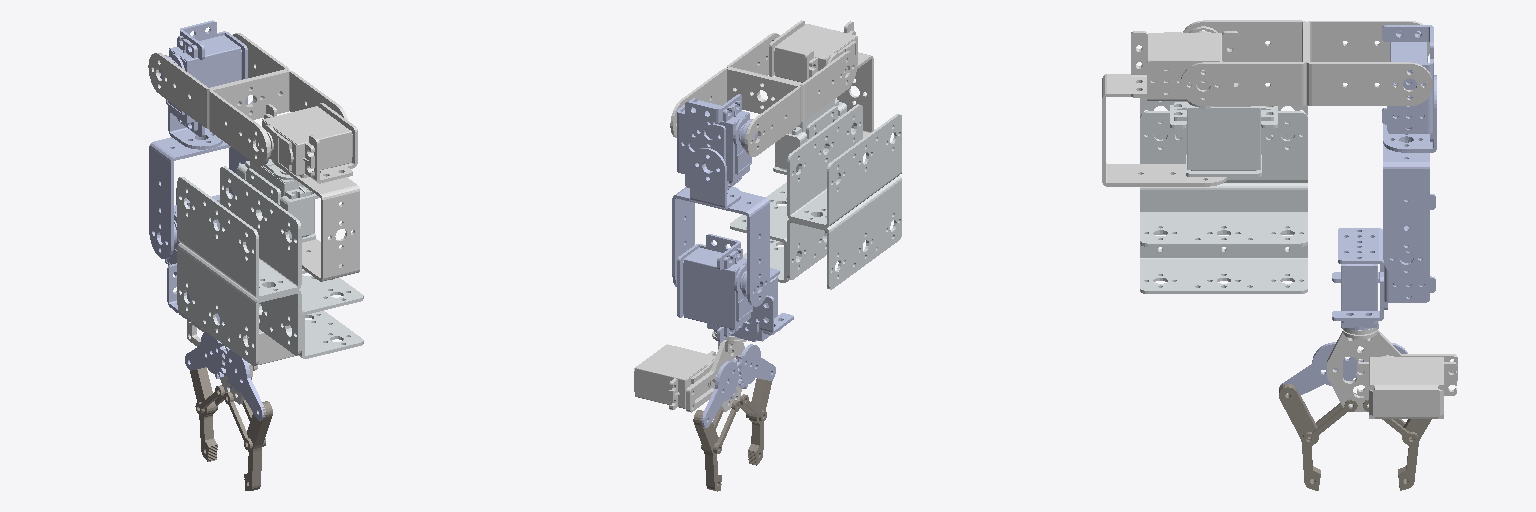
URDF robot description (robotics_arm):
<?xml version="1.0" encoding="utf-8"?>
<!-- This URDF was automatically created by SolidWorks to URDF Exporter! Originally created by [author] ([email redacted]) 
     Commit Version: 1.6.0-4-g7f85cfe  Build Version: 1.6.7995.38578
     For more information, please see http://wiki.ros.org/sw_urdf_exporter -->
<robot
  name="robotics_arm">
  <link
    name="base_link">
    <inertial>
      <origin
        xyz="0.0 0.0 0.0"
        rpy="0 0 0" />
      <mass
        value="0.19532" />
      <inertia
        ixx="0.00014045"
        ixy="2.4979E-07"
        ixz="7.5111E-16"
        iyy="0.00013483"
        iyz="-7.6006E-08"
        izz="6.0782E-05" />
    </inertial>
    <visual>
      <origin
        xyz="0 0 0"
        rpy="0 0 0" />
      <geometry>
        <mesh
          filename="package://robotics_arm_description/meshes/base_link.STL" />
      </geometry>
      <material
        name="">
        <color
          rgba="0.89804 0.91765 0.92941 1" />
      </material>
    </visual>
    <collision>
      <origin
        xyz="0 0 0"
        rpy="0 0 0" />
      <geometry>
        <mesh
          filename="package://robotics_arm_description/meshes/base_link.STL" />
      </geometry>
    </collision>
  </link>
  <link
    name="link_1">
    <inertial>
      <origin
        xyz="-0.0031208 -0.0049756 0.01652"
        rpy="0 0 0" />
      <mass
        value="0.075267" />
      <inertia
        ixx="3.3545E-05"
        ixy="-2.4977E-07"
        ixz="7.6005E-08"
        iyy="2.6443E-05"
        iyz="-7.5076E-16"
        izz="2.2815E-05" />
    </inertial>
    <visual>
      <origin
        xyz="0 0 0"
        rpy="0 0 0" />
      <geometry>
        <mesh
          filename="package://robotics_arm_description/meshes/link_1.STL" />
      </geometry>
      <material
        name="">
        <color
          rgba="0.89804 0.89804 0.89804 1" />
      </material>
    </visual>
    <collision>
      <origin
        xyz="0 0 0"
        rpy="0 0 0" />
      <geometry>
        <mesh
          filename="package://robotics_arm_description/meshes/link_1.STL" />
      </geometry>
    </collision>
  </link>
  <joint
    name="joint_1"
    type="revolute">
    <origin
      xyz="0.025 -0.01 0.105"
      rpy="-1.5708 0 3.142" />
    <parent
      link="base_link" />
    <child
      link="link_1" />
    <axis
      xyz="0 -1 0" />
    <limit
      lower="0"
      upper="3.142"
      effort="0"
      velocity="0" />
  </joint>
  <link
    name="link_2">
    <inertial>
      <origin
        xyz="-8.918E-07 -0.00018014 -0.049337"
        rpy="0 0 0" />
      <mass
        value="0.050948" />
      <inertia
        ixx="4.596E-05"
        ixy="2.8376E-20"
        ixz="-1.4107E-12"
        iyy="2.2618E-05"
        iyz="5.9094E-21"
        izz="2.8467E-05" />
    </inertial>
    <visual>
      <origin
        xyz="0 0 0"
        rpy="0 0 0" />
      <geometry>
        <mesh
          filename="package://robotics_arm_description/meshes/link_2.STL" />
      </geometry>
      <material
        name="">
        <color
          rgba="0.89804 0.89804 0.89804 1" />
      </material>
    </visual>
    <collision>
      <origin
        xyz="0 0 0"
        rpy="0 0 0" />
      <geometry>
        <mesh
          filename="package://robotics_arm_description/meshes/link_2.STL" />
      </geometry>
    </collision>
  </link>
  <joint
    name="joint_2"
    type="revolute">
    <origin
      xyz="0 -0.019745 0.001"
      rpy="3.1416 3.142 -1.571" />
    <parent
      link="link_1" />
    <child
      link="link_2" />
    <axis
      xyz="0 1 0" />
    <limit
      lower="0"
      upper="3.142"
      effort="0"
      velocity="0" />
  </joint>
  <link
    name="link_3">
    <inertial>
      <origin
        xyz="-0.074631 -0.0 -0.10187"
        rpy="0 0 0" />
      <mass
        value="0.08247" />
      <inertia
        ixx="2.3646E-05"
        ixy="-7.6043E-08"
        ixz="3.7595E-07"
        iyy="2.3364E-05"
        iyz="2.4976E-07"
        izz="3.9386E-05" />
    </inertial>
    <visual>
      <origin
        xyz="0 0 0"
        rpy="0 0 0" />
      <geometry>
        <mesh
          filename="package://robotics_arm_description/meshes/link_3.STL" />
      </geometry>
      <material
        name="">
        <color
          rgba="0.79216 0.81961 0.93333 1" />
      </material>
    </visual>
    <collision>
      <origin
        xyz="0 0 0"
        rpy="0 0 0" />
      <geometry>
        <mesh
          filename="package://robotics_arm_description/meshes/link_3.STL" />
      </geometry>
    </collision>
  </link>
  <joint
    name="joint_3"
    type="revolute">
    <!-- <origin
      xyz="0 -0.033579 0"
      rpy="0 -0.43322 3.1416" /> -->
    <origin
      xyz="0.0 -0.02 -0.11"
      rpy="0 3.142 0" />
    <parent
      link="link_2" />
    <child
      link="link_3" />
    <axis
      xyz="0 1 0" />
    <limit
      lower="0"
      upper="3.142"
      effort="0"
      velocity="0" />
  </joint>
  <link
    name="link_4">
    <inertial>
      <origin
        xyz="-0.001684 0.021693 0.033431"
        rpy="0 0 0" />
      <mass
        value="0.099586" />
      <inertia
        ixx="1.9146E-05"
        ixy="-1.5201E-07"
        ixz="-2.4979E-07"
        iyy="1.928E-05"
        iyz="-2.4979E-07"
        izz="3.0134E-05" />
    </inertial>
    <visual>
      <origin
        xyz="0 0 0"
        rpy="0 0 0" />
      <geometry>
        <mesh
          filename="package://robotics_arm_description/meshes/link_4.STL" />
      </geometry>
      <material
        name="">
        <color
          rgba="0.79216 0.81961 0.93333 1" />
      </material>
    </visual>
    <collision>
      <origin
        xyz="0 0 0"
        rpy="0 0 0" />
      <geometry>
        <mesh
          filename="package://robotics_arm_description/meshes/link_4.STL" />
      </geometry>
    </collision>
  </link>
  <joint
    name="joint_4"
    type="revolute">
    <origin
      xyz="-0.1 -0.0005 -0.0"
      rpy="3.1416 0 0" />
    <parent
      link="link_3" />
    <child
      link="link_4" />
    <axis
      xyz="0.0 -1 0.0" />
    <limit
      lower="0"
      upper="3.142"
      effort="0"
      velocity="0" />
  </joint>


  <!--Gripper-->
  <link
    name="gripper_base">
    <inertial>
      <origin
        xyz="-0.000363540838981241 -0.00348535609044029 -8.80955530746519E-10"
        rpy="0 0 0" />
      <mass
        value="0.00593633535356358" />
      <inertia
        ixx="1.59159341867429E-07"
        ixy="1.90789506838977E-09"
        ixz="-8.84539102937578E-17"
        iyy="2.93200101138606E-07"
        iyz="-3.77523037886217E-16"
        izz="1.49447486803871E-07" />
    </inertial>
    <visual>
      <origin
        xyz="0 0 0"
        rpy="0 0 0" />
      <geometry>
        <mesh
          filename="package://robotics_arm_description/meshes/gripper_base.STL" />
      </geometry>
      <material
        name="">
        <color
          rgba="0.898039215686275 0.898039215686275 0.898039215686275 1" />
      </material>
    </visual>
    <collision>
      <origin
        xyz="0 0 0"
        rpy="0 0 0" />
      <geometry>
        <mesh
          filename="package://robotics_arm_description/meshes/gripper_base.STL" />
      </geometry>
    </collision>
  </link>
  <joint
    name="gripper_base_joint"
    type="revolute">
    <origin
      xyz="-0.048 -0.03 0.026"
      rpy="3.1416 3.142 1.5708" />
    <parent
      link="link_4" />
    <child
      link="gripper_base" />
    <axis
      xyz="0 1 0" />
    <limit
      lower="0"
      upper="3.142"
      effort="0"
      velocity="0" />
  </joint>
  
  <link
    name="right_knuckle">
    <inertial>
      <origin
        xyz="0.00668261986107144 0.000411552195934639 0.00125000041516807"
        rpy="0 0 0" />
      <mass
        value="0.00186749158806896" />
      <inertia
        ixx="6.43881538535286E-08"
        ixy="8.60444943248738E-09"
        ixz="1.44343016890503E-22"
        iyy="2.9102971724496E-07"
        iyz="-3.5237894094759E-22"
        izz="3.53472567360917E-07" />
    </inertial>
    <visual>
      <origin
        xyz="0 0 0"
        rpy="0 0 0" />
      <geometry>
        <mesh
          filename="package://robotics_arm_description/meshes/right_knuckle.STL" />
      </geometry>
      <material
        name="">
        <color
          rgba="0.792156862745098 0.819607843137255 0.933333333333333 1" />
      </material>
    </visual>
    <collision>
      <origin
        xyz="0 0 0"
        rpy="0 0 0" />
      <geometry>
        <mesh
          filename="package://robotics_arm_description/meshes/right_knuckle.STL" />
      </geometry>
    </collision>
  </link>
  <joint
    name="gripper_joint"
    type="revolute">
    <origin
      xyz="-0.0045 -0.029286 -0.014782"
      rpy="1.5708 0.99851 -1.5708" />
    <parent
      link="gripper_base" />
    <child
      link="right_knuckle" />
    <axis
      xyz="0 0 1" />
    <limit
      lower="0"
      upper="0.8"
      effort="0"
      velocity="0" />
  </joint>
  <link
    name="right_finger">
    <inertial>
      <origin
        xyz="-0.00979937596486929 0.00270099795344181 -3.55234022753059E-10"
        rpy="0 0 0" />
      <mass
        value="0.0228241558821815" />
      <inertia
        ixx="5.52737412324421E-07"
        ixy="1.37764922823382E-06"
        ixz="2.4709539258184E-20"
        iyy="6.56789691049883E-06"
        iyz="-6.88214269644119E-21"
        izz="7.08639808899998E-06" />
    </inertial>
    <visual>
      <origin
        xyz="0 0 0"
        rpy="0 0 0" />
      <geometry>
        <mesh
          filename="package://robotics_arm_description/meshes/left_finger.STL" />
      </geometry>
      <material
        name="">
        <color
          rgba="0.647058823529412 0.619607843137255 0.588235294117647 1" />
      </material>
    </visual>
    <collision>
      <origin
        xyz="0 0 0"
        rpy="0 0 0" />
      <geometry>
        <mesh
          filename="package://robotics_arm_description/meshes/left_finger.STL" />
      </geometry>
    </collision>
  </link>
  <joint
    name="right_outer_joint"
    type="revolute">
    <origin
      xyz="0.03 0.0 -0.005"
      rpy="0 0 -1.647" />
    <parent
      link="right_knuckle" />
    <child
      link="right_finger" />
    <axis
      xyz="0 0 1" />
    <limit
      lower="0"
      upper="0"
      effort="0"
      velocity="0" />
    <mimic
      joint="gripper_joint"
      multiplier="-1"
      offset="0" />
  </joint>
  <link
    name="right_inner_link">
    <inertial>
      <origin
        xyz="5.1147974744481E-13 -2.2266355426126E-12 0.00550000000011003"
        rpy="0 0 0" />
      <mass
        value="0.00510100743119223" />
      <inertia
        ixx="1.34527151286055E-08"
        ixy="-3.34811858124617E-18"
        ixz="5.43871252753616E-23"
        iyy="6.76243183348528E-07"
        iyz="6.28657265540301E-23"
        izz="6.84382349069641E-07" />
    </inertial>
    <visual>
      <origin
        xyz="0 0 0"
        rpy="0 0 0" />
      <geometry>
        <mesh
          filename="package://robotics_arm_description/meshes/left_inner_link.STL" />
      </geometry>
      <material
        name="">
        <color
          rgba="0.647058823529412 0.619607843137255 0.588235294117647 1" />
      </material>
    </visual>
    <collision>
      <origin
        xyz="0 0 0"
        rpy="0 0 0" />
      <geometry>
        <mesh
          filename="package://robotics_arm_description/meshes/left_inner_link.STL" />
      </geometry>
    </collision>
  </link>
  <joint
    name="right_inner_joint"
    type="revolute">
    <origin
      xyz="-0.0025 -0.05 -0.005"
      rpy="1.5708 -0.85555 1.5708" />
    <parent
      link="gripper_base" />
    <child
      link="right_inner_link" />
    <axis
      xyz="0 0 -1" />
    <limit
      lower="0"
      upper="0"
      effort="0"
      velocity="0" />
    <mimic
      joint="gripper_joint"
      multiplier="1"
      offset="0" />
  </joint>
  <link
    name="left_inner_link">
    <inertial>
      <origin
        xyz="-3.23715826366922E-09 2.54691268075646E-10 -0.00300000007424722"
        rpy="0 0 0" />
      <mass
        value="0.00510100743119225" />
      <inertia
        ixx="1.34527151286056E-08"
        ixy="-6.39099484239893E-15"
        ixz="2.94455618553564E-21"
        iyy="6.76243183348529E-07"
        iyz="-1.32348898008484E-23"
        izz="6.84382349069643E-07" />
    </inertial>
    <visual>
      <origin
        xyz="0 0 0"
        rpy="0 0 0" />
      <geometry>
        <mesh
          filename="package://robotics_arm_description/meshes/left_inner_link.STL" />
      </geometry>
      <material
        name="">
        <color
          rgba="0.647058823529412 0.619607843137255 0.588235294117647 1" />
      </material>
    </visual>
    <collision>
      <origin
        xyz="0 0 0"
        rpy="0 0 0" />
      <geometry>
        <mesh
          filename="package://robotics_arm_description/meshes/left_inner_link.STL" />
      </geometry>
    </collision>
  </link>
  <joint
    name="left_inner_joint"
    type="revolute">
    <origin
      xyz="-0.0025 -0.05 0.005"
      rpy="-1.5708 0.84609 1.5708" />
    <parent
      link="gripper_base" />
    <child
      link="left_inner_link" />
    <axis
      xyz="0 0 1" />
    <limit
      lower="0"
      upper="0"
      effort="0"
      velocity="0" />
    <mimic
      joint="gripper_joint"
      multiplier="-1"
      offset="0" />
  </joint>
  <link
    name="left_knuckle">
    <inertial>
      <origin
        xyz="0.00668260569846107 0.000411535901404525 0.00125000002359923"
        rpy="0 0 0" />
      <mass
        value="0.00186749158806896" />
      <inertia
        ixx="6.43881535863432E-08"
        ixy="8.60444591364846E-09"
        ixz="1.04927860702352E-21"
        iyy="2.91029717512146E-07"
        iyz="1.91905902112302E-22"
        izz="3.53472567360918E-07" />
    </inertial>
    <visual>
      <origin
        xyz="0 0 0"
        rpy="0 0 0" />
      <geometry>
        <mesh
          filename="package://robotics_arm_description/meshes/left_knuckle.STL" />
      </geometry>
      <material
        name="">
        <color
          rgba="0.792156862745098 0.819607843137255 0.933333333333333 1" />
      </material>
    </visual>
    <collision>
      <origin
        xyz="0 0 0"
        rpy="0 0 0" />
      <geometry>
        <mesh
          filename="package://robotics_arm_description/meshes/left_knuckle.STL" />
      </geometry>
    </collision>
  </link>
  <joint
    name="left_knuckle_joint"
    type="revolute">
    <origin
      xyz="-0.007 -0.029303 0.013318"
      rpy="-1.5708 -1.0122 -1.5708" />
    <parent
      link="gripper_base" />
    <child
      link="left_knuckle" />
    <axis
      xyz="0 0 1" />
    <limit
      lower="0"
      upper="0"
      effort="0"
      velocity="0" />
    <mimic
      joint="gripper_joint"
      multiplier="1"
      offset="0" />
  </joint>
  <link
    name="left_finger">
    <inertial>
      <origin
        xyz="-0.00979937915283868 0.00270100620085434 0.00300000005464007"
        rpy="0 0 0" />
      <mass
        value="0.0228241558821816" />
      <inertia
        ixx="5.52737369249781E-07"
        ixy="1.37764913419651E-06"
        ixz="-3.03773808153974E-20"
        iyy="6.56789695357349E-06"
        iyz="6.63610816299495E-21"
        izz="7.08639808899999E-06" />
    </inertial>
    <visual>
      <origin
        xyz="0 0 0"
        rpy="0 0 0" />
      <geometry>
        <mesh
          filename="package://robotics_arm_description/meshes/left_finger.STL" />
      </geometry>
      <material
        name="">
        <color
          rgba="0.647058823529412 0.619607843137255 0.588235294117647 1" />
      </material>
    </visual>
    <collision>
      <origin
        xyz="0 0 0"
        rpy="0 0 0" />
      <geometry>
        <mesh
          filename="package://robotics_arm_description/meshes/left_finger.STL" />
      </geometry>
    </collision>
  </link>
  <joint
    name="left_finger_joint"
    type="revolute">
    <origin
      xyz="0.03 0.0 0.001"
      rpy="0 0 -1.6774" />
    <parent
      link="left_knuckle" />
    <child
      link="left_finger" />
    <axis
      xyz="0 0 1" />
    <limit
      lower="0"
      upper="0"
      effort="0"
      velocity="0" />
    <mimic
      joint="gripper_joint"
      multiplier="-1"
      offset="0" />
  </joint>
</robot>

--- What the picture shows (computed from the rendered views, not written in the file) ---
Views: 3 orthographic renders of the robot side by side, from view 1: azimuth 30°, elevation 25°; view 2: azimuth 150°, elevation 25°; view 3: azimuth 270°, elevation 25°.
Model robotics_arm with 12 links and 11 joints (11 revolute), rooted at base_link, posed all joints at 0.
Visible links, largest first — view 1: base_link, link_1, link_2, link_3, right_finger, left_knuckle, left_finger, gripper_base, right_knuckle, link_4, left_inner_link; view 2: base_link, link_3, link_2, link_4, link_1, gripper_base, right_knuckle, left_finger, right_finger, left_knuckle; view 3: base_link, link_2, link_3, link_1, gripper_base, link_4, left_finger, left_knuckle, right_finger, left_inner_link.
Link boxes in pixels (x1,y1,x2,y2): base_link: [177, 159, 363, 365]; link_1: [258, 103, 359, 281]; link_2: [148, 33, 347, 165]; link_3: [149, 20, 249, 258]; right_finger: [190, 367, 217, 461]; left_knuckle: [222, 347, 265, 420]; left_finger: [244, 401, 272, 490]; gripper_base: [187, 320, 294, 404]; right_knuckle: [185, 332, 225, 378]; link_4: [160, 188, 232, 328]; left_inner_link: [224, 392, 265, 449]; base_link: [730, 99, 901, 289]; link_3: [672, 94, 769, 306]; link_2: [670, 33, 856, 156]; link_4: [677, 234, 793, 341]; link_1: [769, 20, 873, 137]; gripper_base: [634, 331, 746, 412]; right_knuckle: [700, 358, 740, 427]; left_finger: [748, 378, 772, 465]; right_finger: [693, 410, 721, 491]; left_knuckle: [737, 344, 775, 388]; base_link: [1140, 98, 1307, 293]; link_2: [1180, 20, 1432, 105]; link_3: [1382, 25, 1436, 278]; link_1: [1102, 31, 1238, 186]; gripper_base: [1327, 321, 1457, 418]; link_4: [1332, 194, 1435, 329]; left_finger: [1279, 384, 1320, 490]; left_knuckle: [1279, 342, 1359, 395]; right_finger: [1398, 419, 1431, 490]; left_inner_link: [1303, 393, 1357, 445].
Bounding box of the posed robot: 0.0984 × 0.1904 × 0.2688 m (x, y, z).
12 mesh visuals loaded from 10 distinct referenced files (10 binary STL).